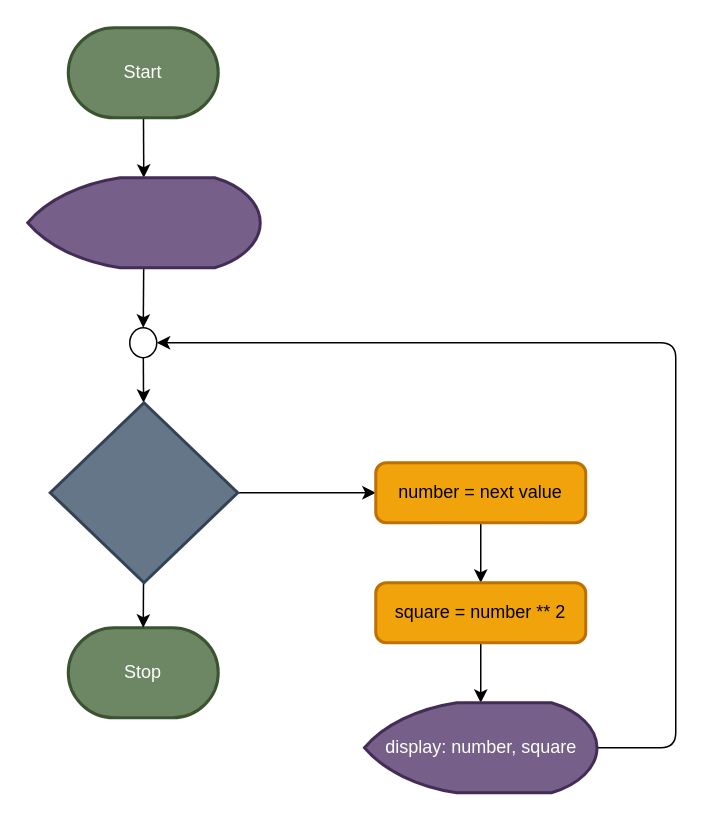
This 714x819 diagram has some shape labels left out. The shapes that lost their labels are listed below. From the top down, each one's box as (x1, y1, x2, y2) in pixels, then its label:
(26, 176, 261, 268): Display table headlings
(48, 400, 238, 584): Number in range (1, 11)
